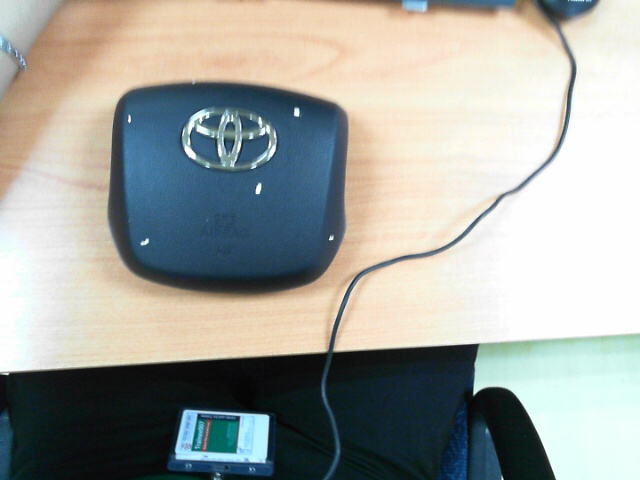Airbag: (293, 106, 301, 117), (255, 183, 262, 195), (140, 238, 149, 246), (127, 113, 132, 124), (328, 234, 334, 241)
